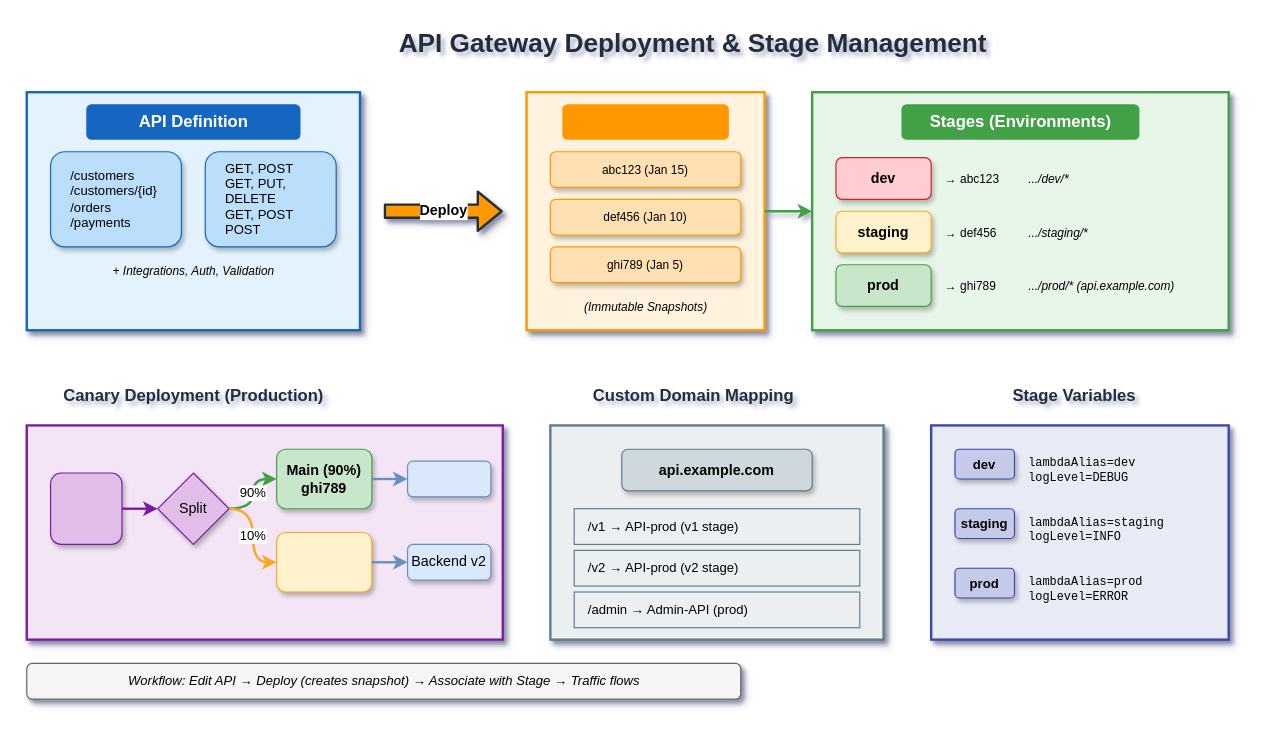
Image size: 1264x735. Some labels were removed from this diagram. Each missing label, with the centre of its shape:
100% Traffic: the point at 87,510
Backend v1: the point at 450,480
Canary (10%) abc123: the point at 325,563
Deployments: the point at 645,121
